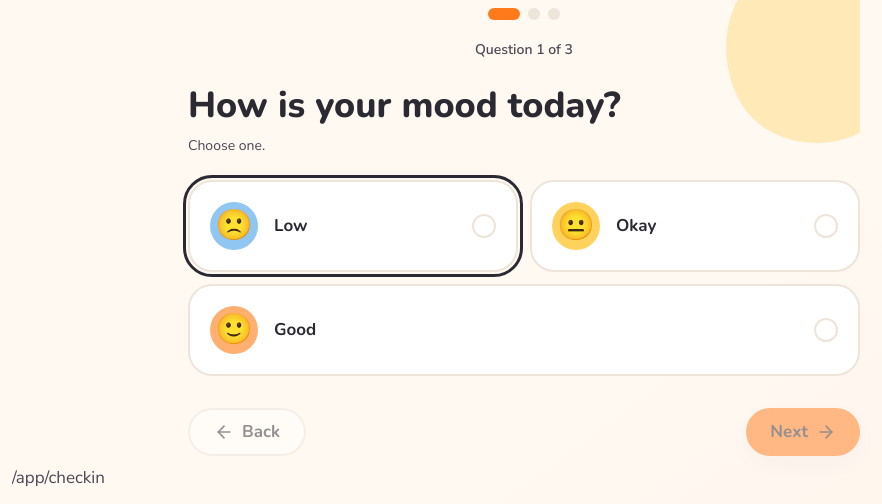
Scenario: Check-in flow › Back returns to the previous question with the answer still chosen
Click the radio button labelled "Okay". click: click(576, 226)
box: top-left (530, 180), bottom-right (860, 272)
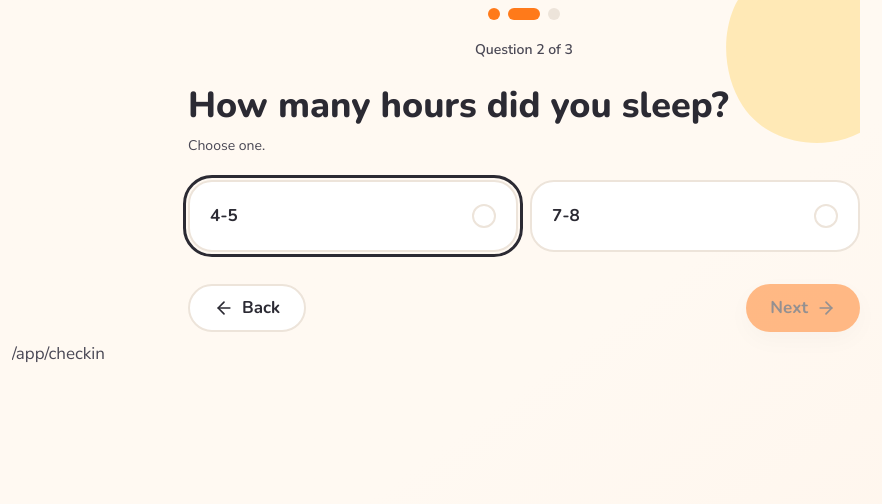
Result: the text "Question 2 of 3" is shown at top-left (475, 40), bottom-right (573, 59)
Click the button "Back". click: click(247, 308)
box: top-left (188, 284), bottom-right (306, 332)
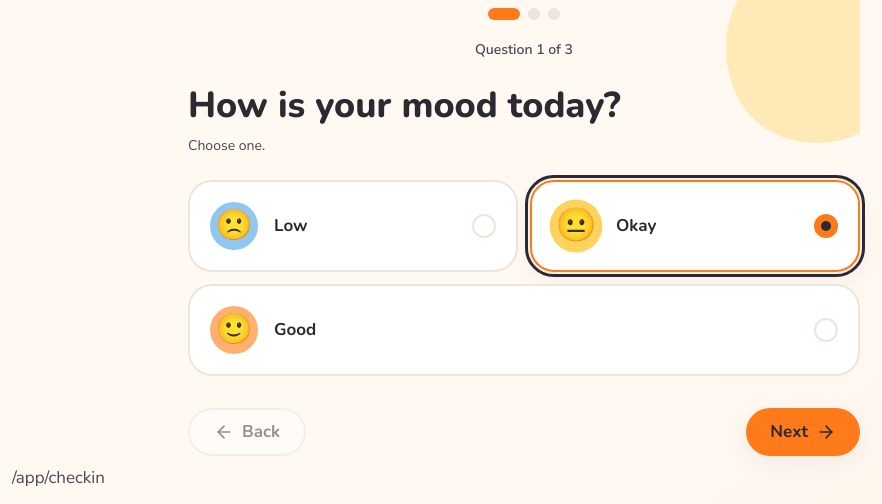
Result: the text "Question 1 of 3" is shown at top-left (475, 40), bottom-right (573, 59)
Result: the radio button labelled "Okay" is checked at top-left (530, 180), bottom-right (860, 272)
